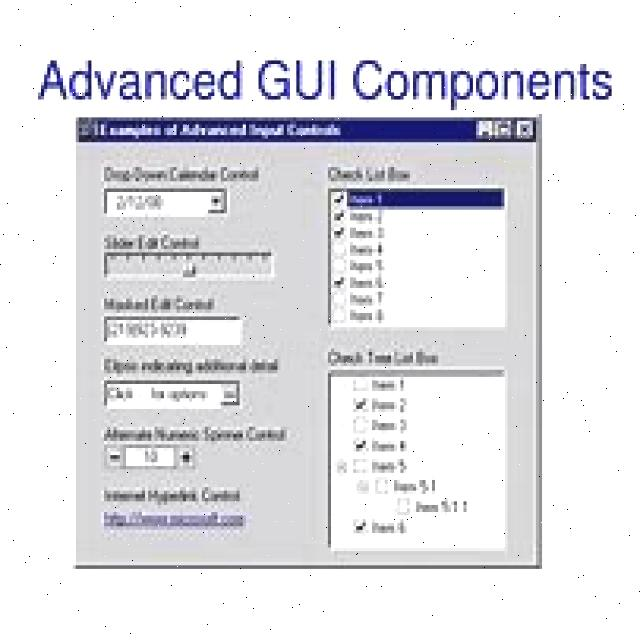Hyperlink: (99, 508, 249, 534)
button: (33, 49, 618, 108), (109, 120, 349, 140), (103, 442, 124, 468), (513, 119, 534, 141), (179, 445, 198, 469), (494, 118, 512, 141), (475, 120, 493, 140)
checkbox: (352, 395, 370, 415), (353, 415, 370, 435), (352, 518, 370, 536), (354, 434, 370, 454), (331, 191, 346, 212), (396, 498, 413, 516), (330, 210, 347, 227), (330, 256, 346, 274), (352, 457, 368, 475), (328, 276, 346, 291), (376, 477, 390, 495), (352, 376, 368, 391), (331, 228, 347, 242), (331, 242, 347, 256), (331, 293, 347, 307), (331, 310, 348, 323)
dropdownMenu: (103, 379, 243, 412), (102, 186, 230, 217)
icon: (75, 116, 106, 144)
input: (102, 315, 243, 346), (126, 447, 175, 468)
label: (102, 352, 283, 376), (102, 423, 290, 445), (100, 162, 265, 186), (102, 485, 241, 506), (100, 292, 219, 312), (328, 347, 440, 367), (101, 230, 201, 250), (325, 161, 413, 183), (346, 188, 390, 210), (414, 500, 472, 514), (346, 256, 391, 274), (346, 238, 388, 257), (346, 209, 392, 224), (370, 457, 410, 474), (349, 308, 390, 324), (371, 396, 407, 414), (371, 417, 409, 434), (348, 226, 391, 241), (392, 478, 438, 492), (371, 376, 408, 392), (372, 437, 409, 453), (348, 276, 390, 290), (347, 294, 389, 308), (372, 518, 408, 533)
slider: (102, 250, 278, 282)
